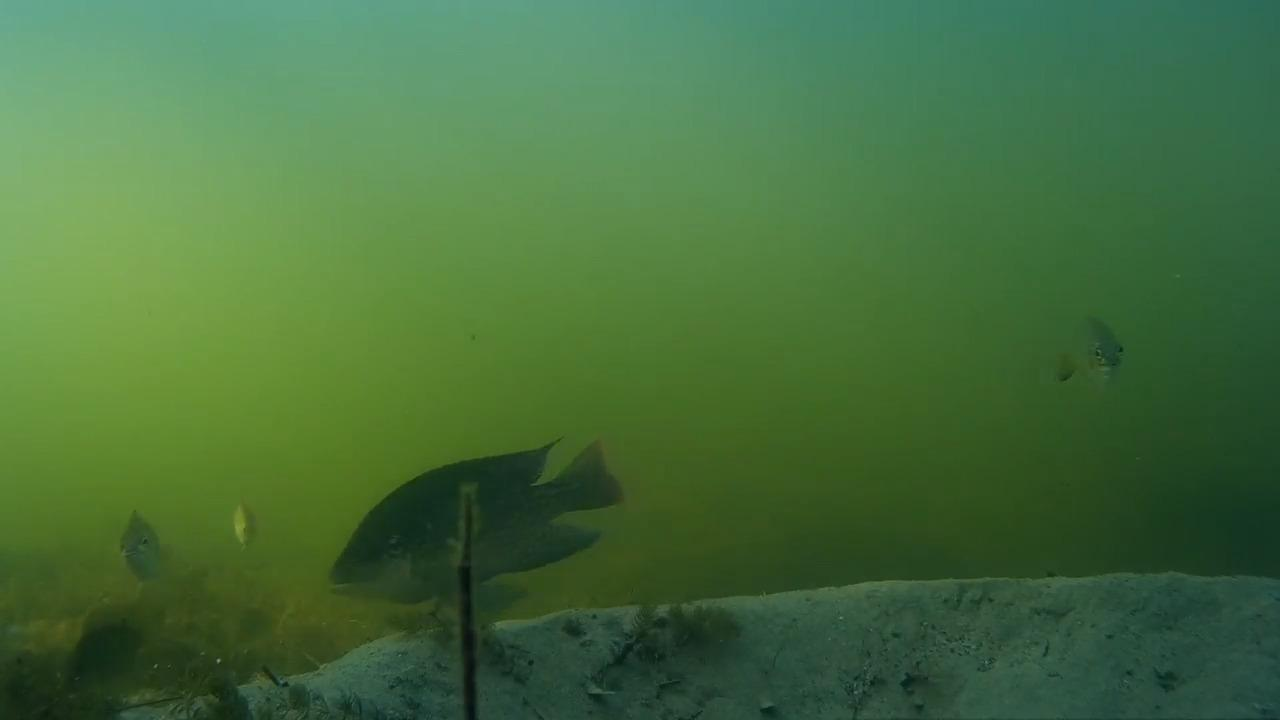Tilapia: (326, 432, 649, 603), (1010, 306, 1163, 386), (57, 602, 189, 688), (115, 506, 203, 590), (222, 500, 267, 558)
